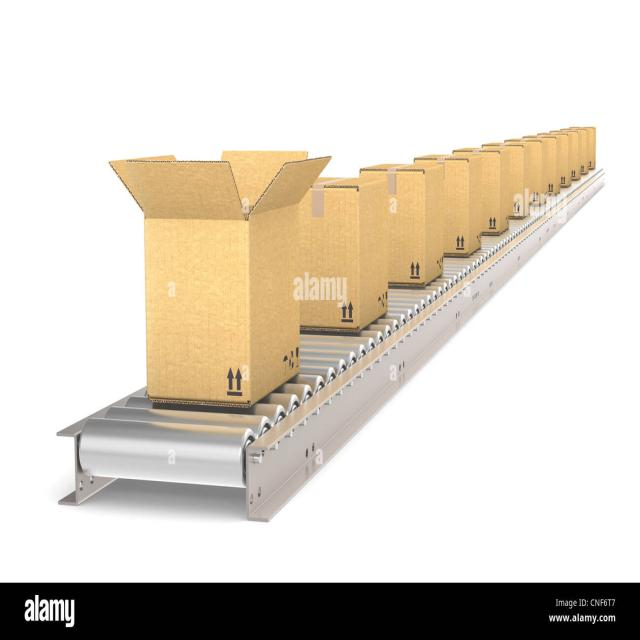box: (108, 148, 332, 410), (300, 160, 388, 340), (356, 146, 450, 289), (422, 137, 486, 264), (470, 135, 516, 231), (503, 128, 529, 229), (523, 127, 545, 209), (539, 122, 560, 200), (554, 120, 573, 193), (565, 119, 584, 185), (573, 115, 591, 180), (583, 118, 603, 172)
